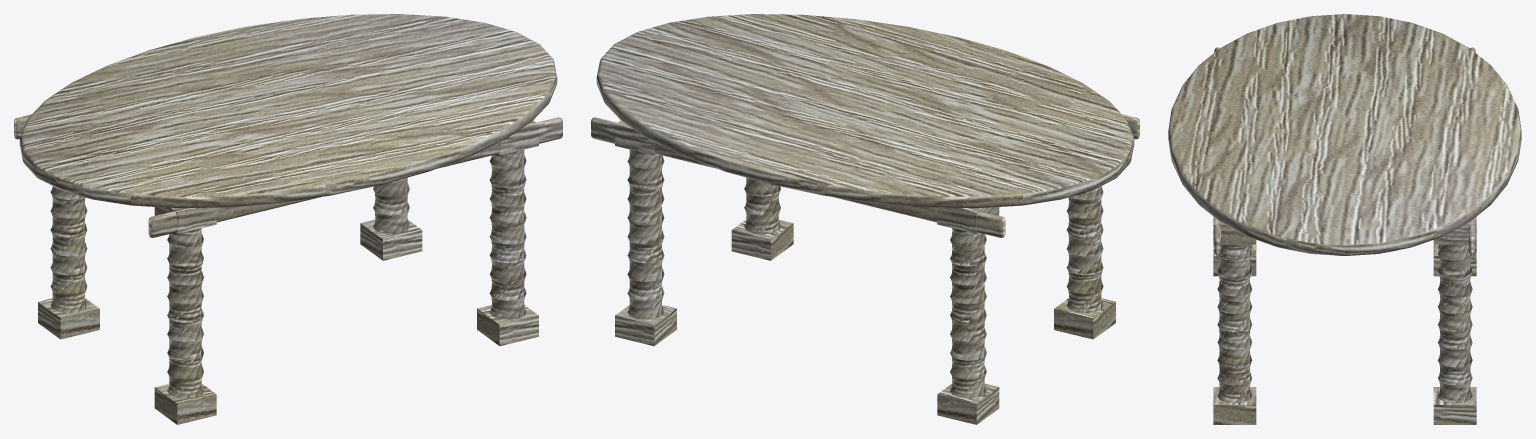
Rendered from Antique_Table_08.fbx.
The picture shows the model from 3 angles, left to right: view 1: azimuth 30°, elevation 25°; view 2: azimuth 150°, elevation 25°; view 3: azimuth 270°, elevation 25°; orthographic projection. The views are drawn at different scales.
Visible parts, largest first — view 1: Antique_Table; view 2: Antique_Table; view 3: Antique_Table.
Part boxes in pixels (x1,y1,x2,y2): Antique_Table: [14, 14, 562, 424]; Antique_Table: [591, 14, 1139, 424]; Antique_Table: [1168, 14, 1521, 424].
Size of the model in its own units: 1.99 by 0.85 by 1.28.
1 material, 1 textured.
